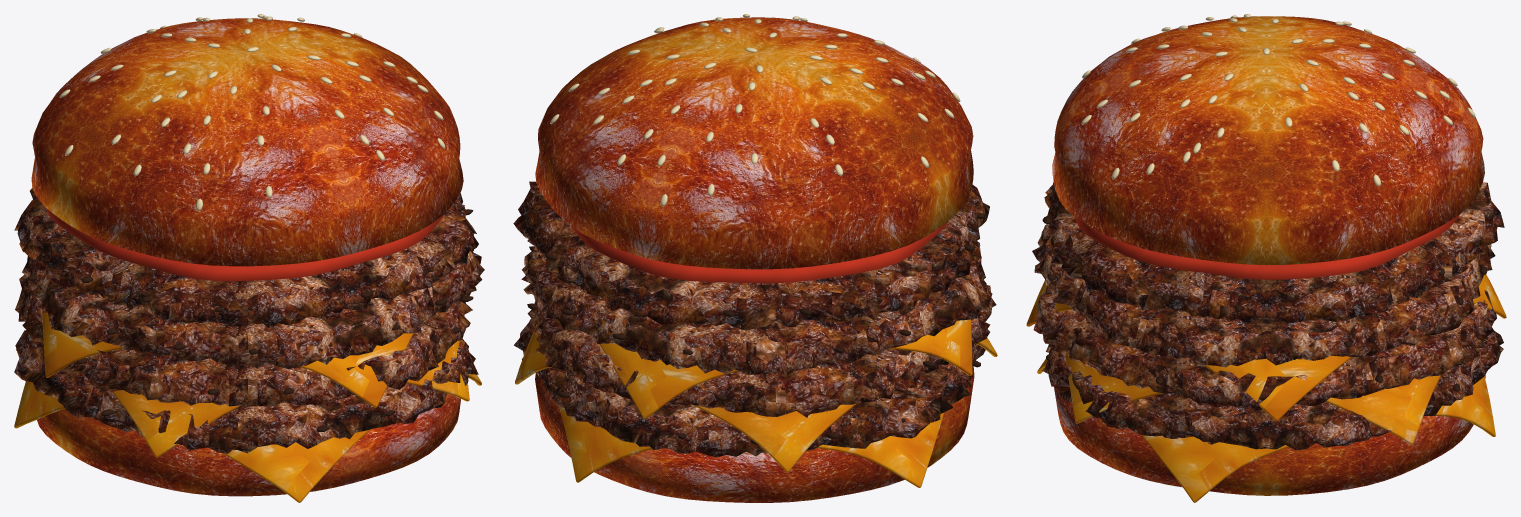
The model's file is smash-duplo-cheddar.glb.
The picture shows the model from 3 angles, left to right: view 1: azimuth 30°, elevation 25°; view 2: azimuth 150°, elevation 25°; view 3: azimuth 270°, elevation 25°; orthographic projection.
Parts seen in each view (by area): view 1: Pao_inferior002, Carne002, Cheddar_derretido002, Molho002, Gergelim002, Crosta002; view 2: Pao_inferior002, Carne002, Cheddar_derretido002, Molho002, Gergelim002, Crosta002; view 3: Pao_inferior002, Carne002, Cheddar_derretido002, Molho002, Gergelim002, Crosta002.
Boxes of the visible parts, <box> form: Pao_inferior002: <box>31,18,463,496</box>; Carne002: <box>14,188,484,453</box>; Cheddar_derretido002: <box>14,310,481,502</box>; Molho002: <box>46,208,443,281</box>; Gergelim002: <box>59,14,445,210</box>; Crosta002: <box>23,209,473,437</box>; Pao_inferior002: <box>535,17,974,502</box>; Carne002: <box>513,181,996,457</box>; Cheddar_derretido002: <box>515,319,997,487</box>; Molho002: <box>570,221,948,283</box>; Gergelim002: <box>550,14,960,206</box>; Crosta002: <box>527,213,984,445</box>; Pao_inferior002: <box>1052,16,1485,495</box>; Carne002: <box>1032,182,1504,450</box>; Cheddar_derretido002: <box>1026,274,1506,502</box>; Molho002: <box>1075,212,1461,279</box>; Gergelim002: <box>1081,14,1475,186</box>; Crosta002: <box>1042,187,1487,437</box>.
Size of the model in its own units: 0.16 by 0.138 by 0.16.
7 materials, 4 textured.
